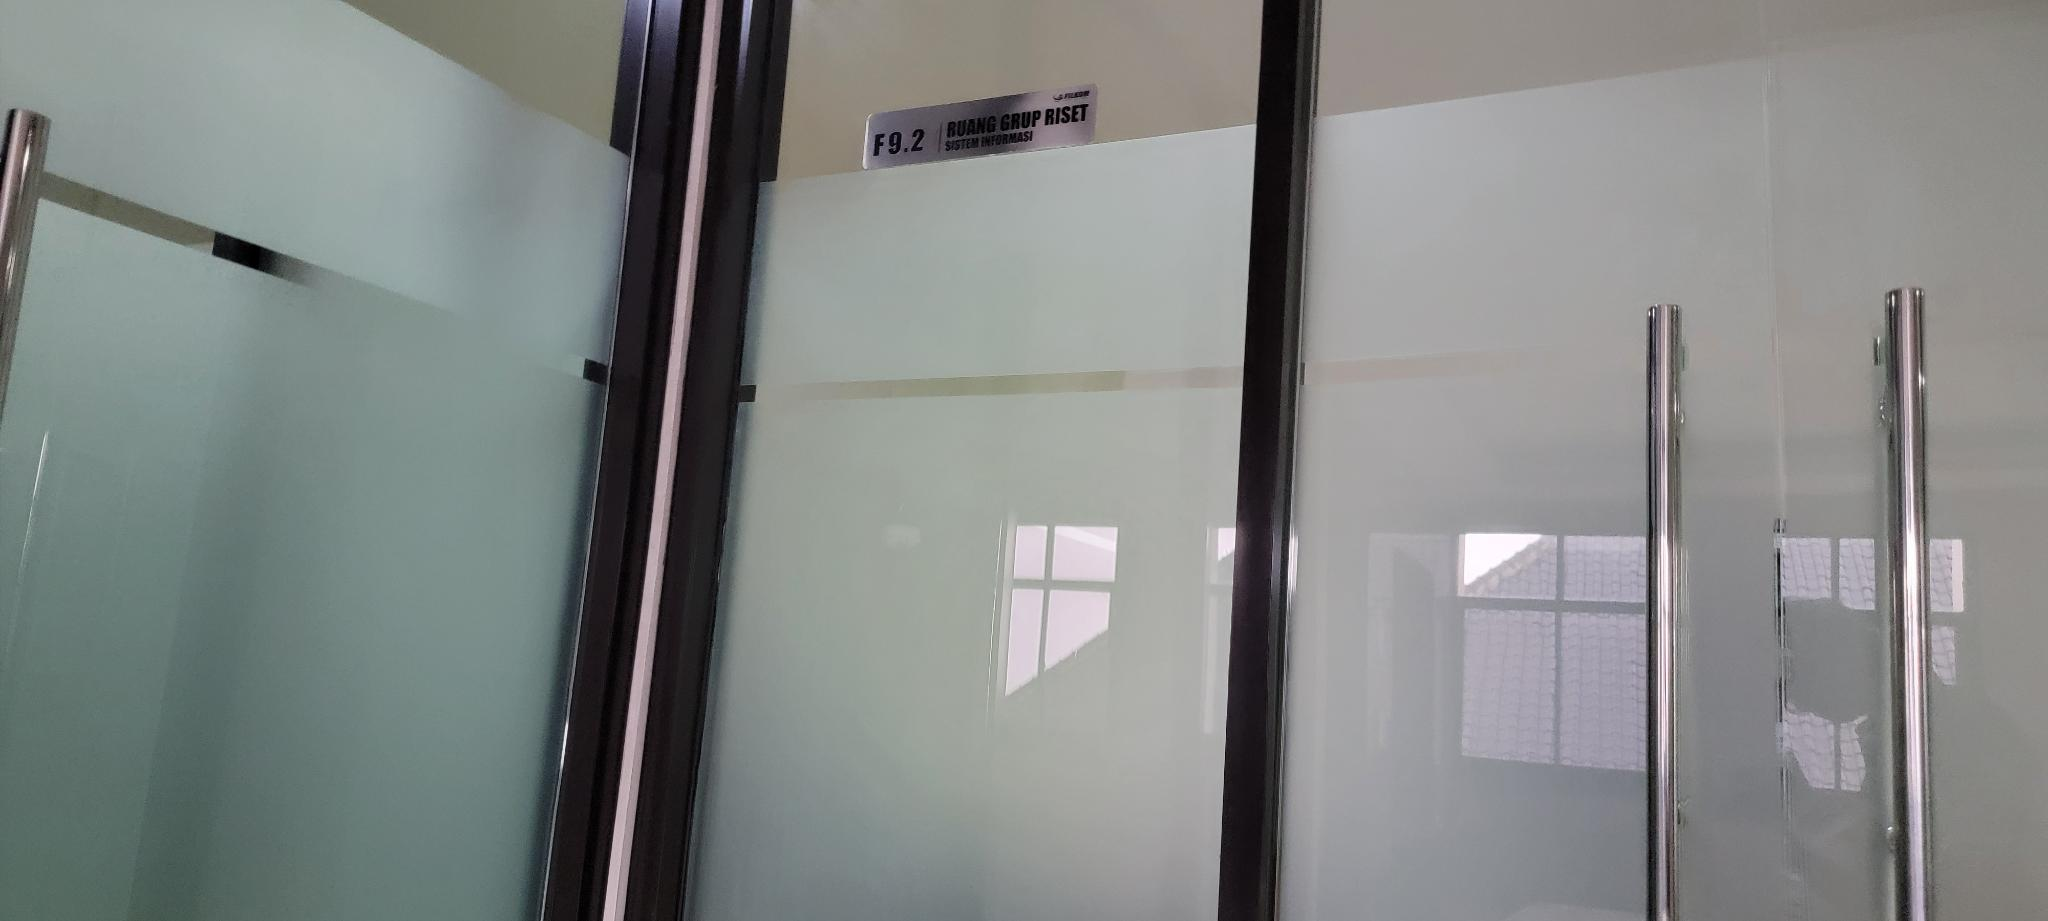plate: (859, 78, 1096, 172)
